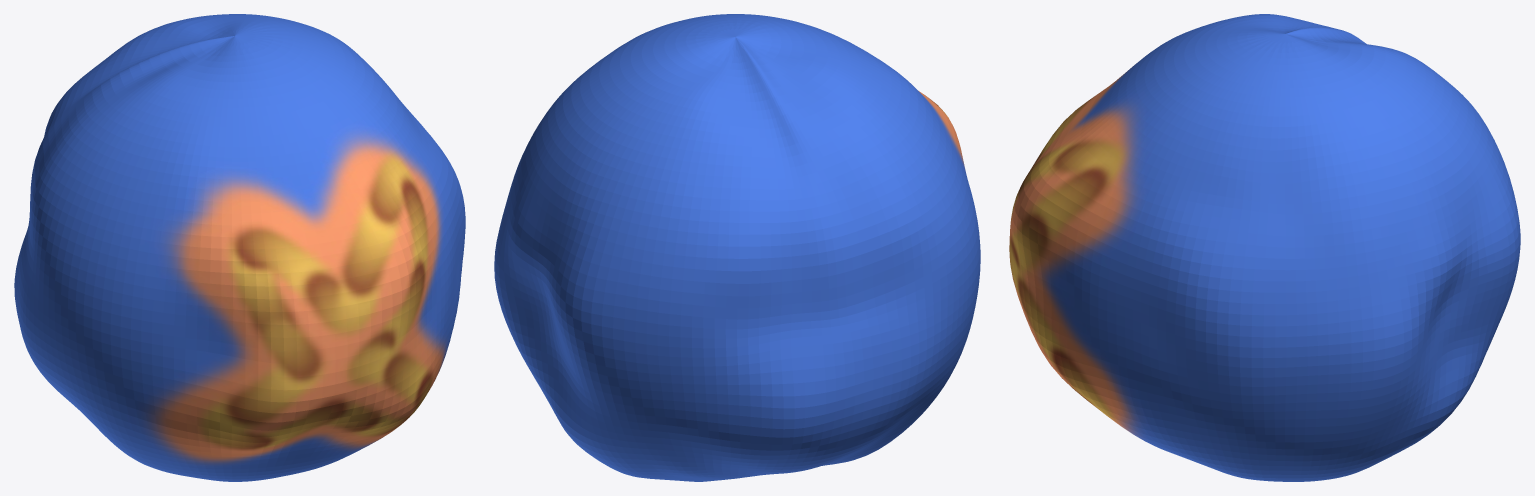
The picture shows the model from 3 angles, left to right: view 1: azimuth 30°, elevation 25°; view 2: azimuth 150°, elevation 25°; view 3: azimuth 270°, elevation 25°; orthographic projection. The views are drawn at different scales.
Visible parts, largest first — view 1: Sphere; view 2: Sphere; view 3: Sphere.
Boxes of the visible parts, box(x1,y1,x2,y2) form: Sphere: box(14, 14, 465, 481); Sphere: box(494, 14, 980, 481); Sphere: box(1009, 14, 1520, 481).
Bounding box in the file's own units: 3.85 × 3.8 × 4.27.
Materials: 1 (1 with a texture image).
